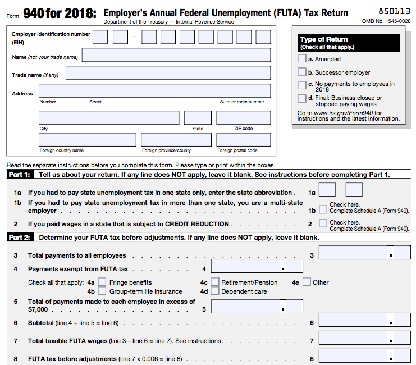checkbox: (97, 285, 107, 296), (301, 276, 312, 286), (297, 53, 307, 63), (297, 66, 307, 76), (297, 80, 307, 90), (297, 93, 307, 103), (318, 204, 328, 214), (318, 218, 328, 228), (97, 276, 107, 286), (210, 276, 220, 286), (210, 285, 220, 295)
textbox: (38, 82, 272, 98), (64, 64, 272, 81), (80, 46, 273, 63), (38, 109, 181, 125), (38, 131, 138, 147), (317, 311, 412, 327), (318, 244, 412, 260), (210, 258, 304, 274), (210, 298, 304, 314), (318, 329, 412, 345), (318, 347, 412, 363), (140, 131, 213, 147), (215, 109, 272, 126), (216, 131, 273, 148), (183, 109, 213, 125), (318, 181, 337, 197), (345, 181, 364, 197), (140, 29, 158, 45), (159, 29, 177, 45), (235, 29, 253, 45), (254, 29, 272, 45), (92, 29, 109, 45), (112, 29, 129, 45), (179, 29, 196, 45), (198, 29, 215, 45), (217, 29, 234, 45)
